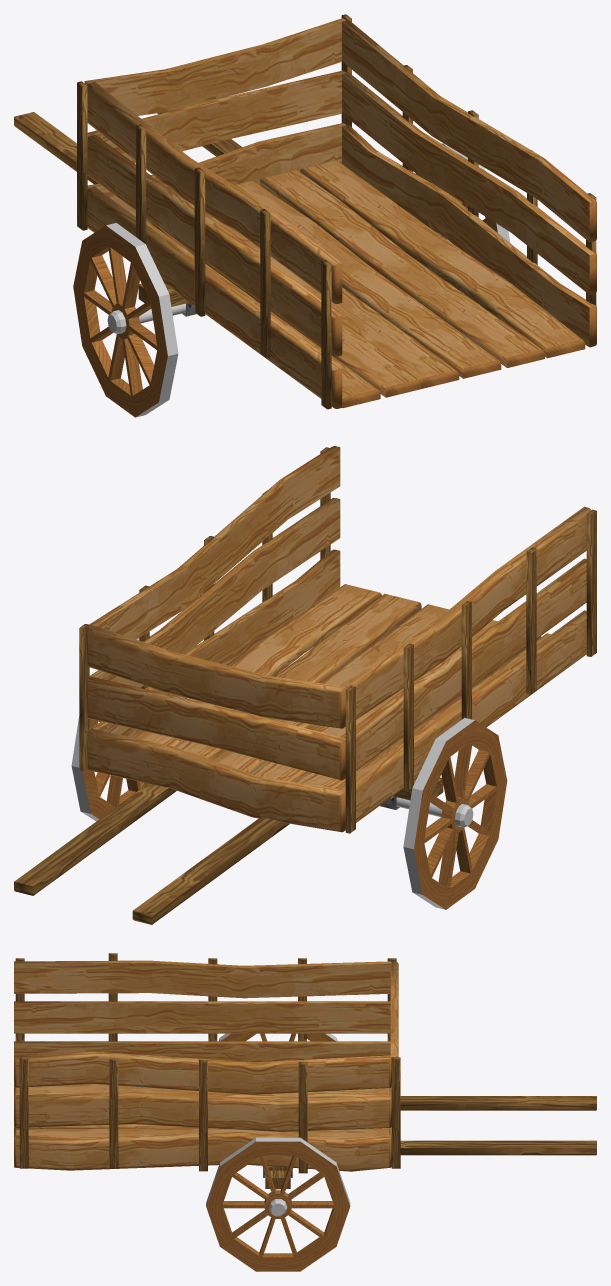
The model's file is Better_Kart.fbx.
3 views of the same model, one above another, from view 1: azimuth 30°, elevation 25°; view 2: azimuth 150°, elevation 25°; view 3: azimuth 270°, elevation 25° (orthographic). The views are drawn at different scales.
Parts seen in each view (by area): view 1: Box030; view 2: Box030; view 3: Box030.
Boxes of the visible parts, x1,y1,x2,y2 form: Box030: (14, 14, 596, 417); Box030: (14, 446, 596, 924); Box030: (14, 953, 596, 1271).
Size of the model in its own units: 3.01 by 5.5 by 2.11.
